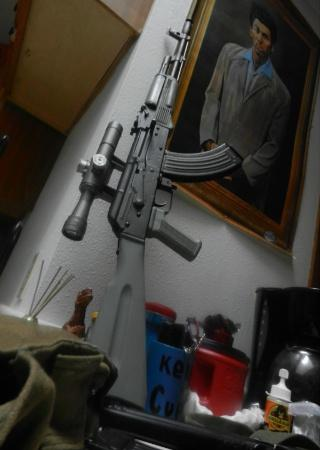weapon: (61, 18, 241, 409)
